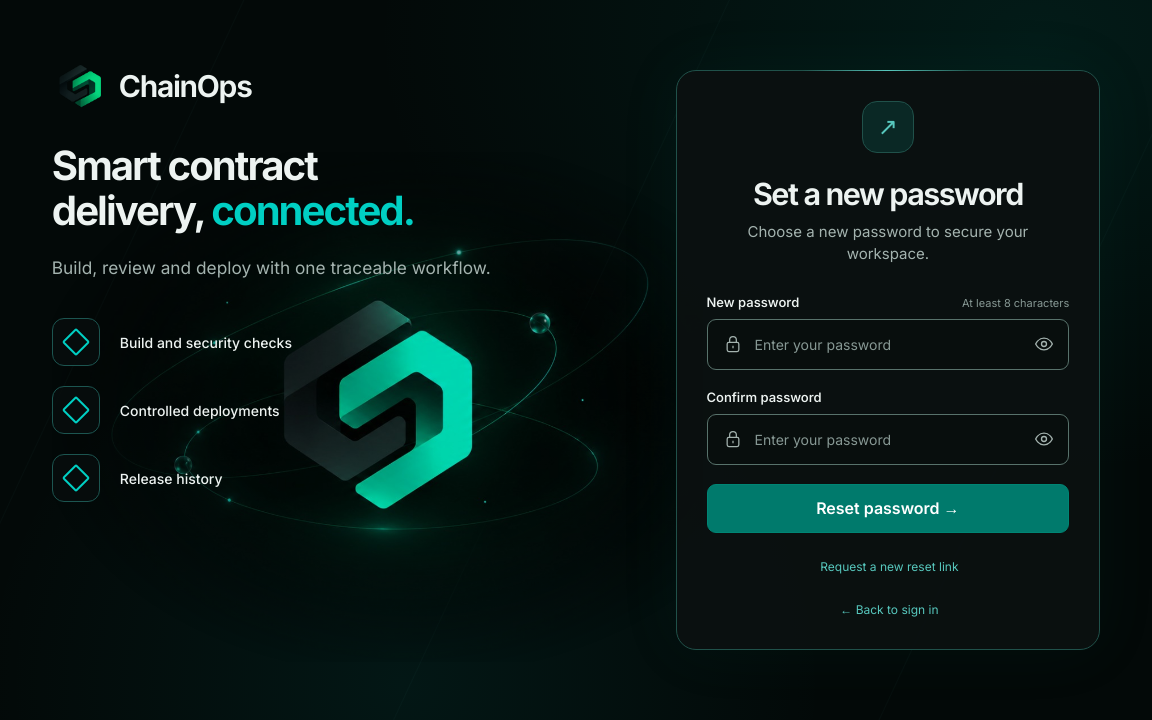
validates password length and confirmation before submitting the token
The width and height of the screenshot is (1152, 720).
Type "1234567" into the password field labelled "New password".
click(888, 344); type("1234567")  # box [706,319,1069,370]
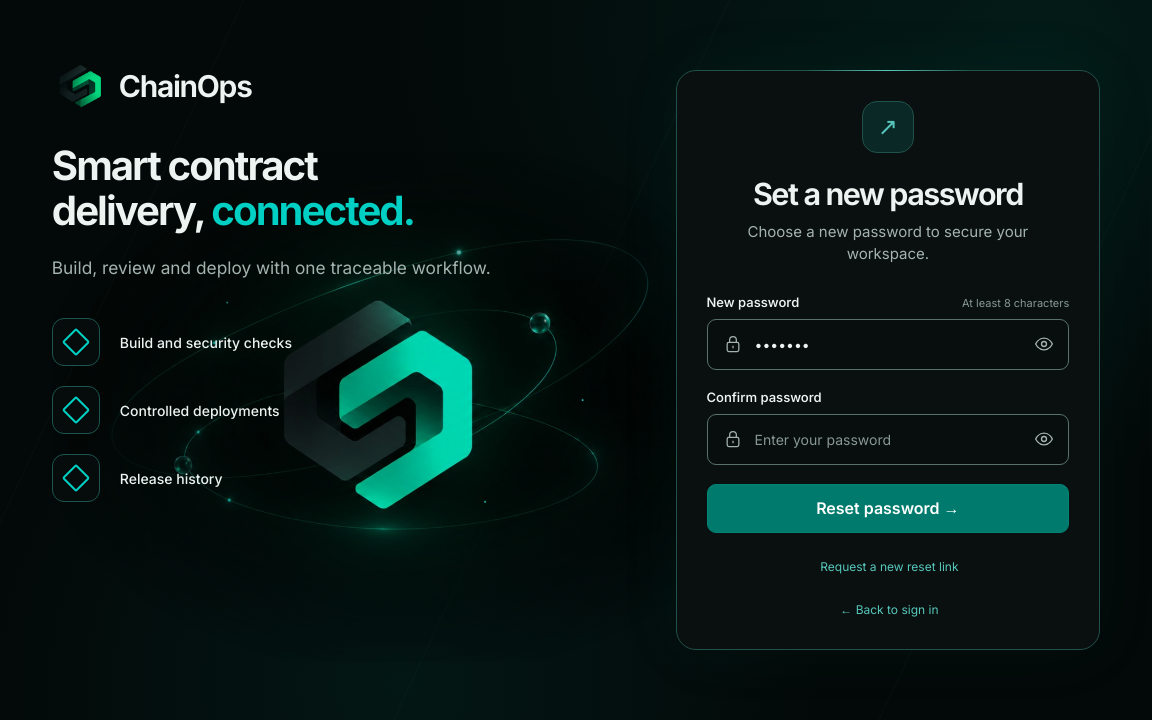
Type "different" into the password field labelled "Confirm password".
click(888, 439); type("different")  # box [706,414,1069,465]
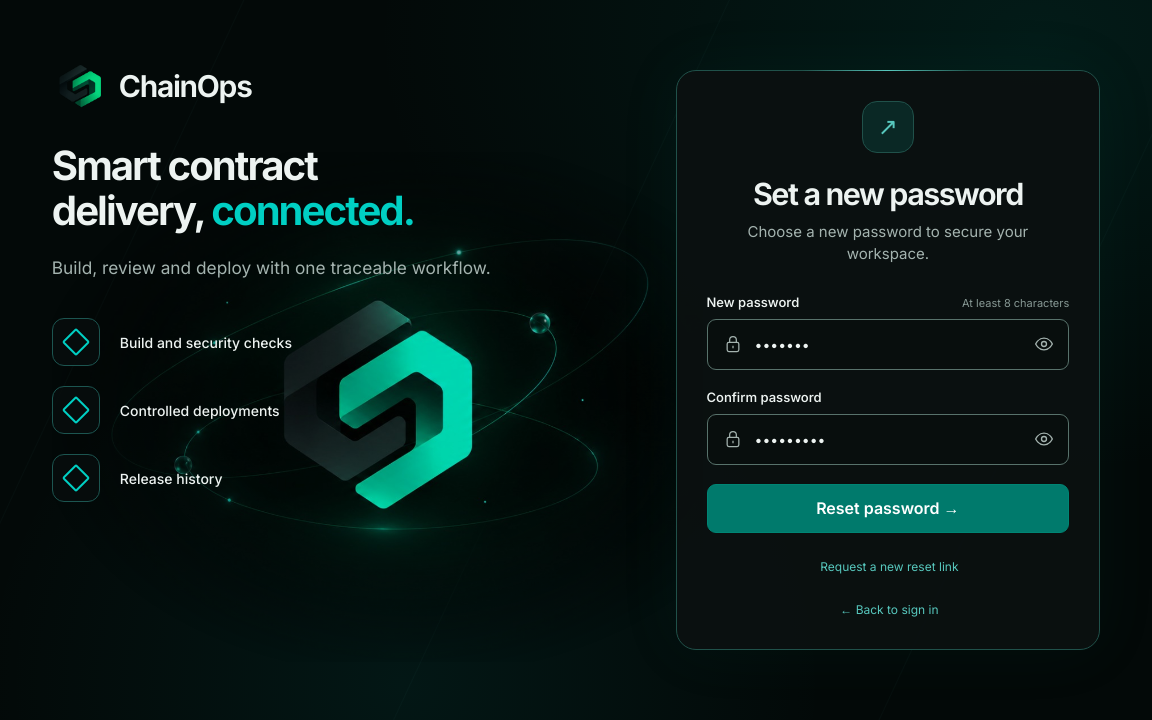
Click the button "Reset password →".
click(888, 508)  # box [706,484,1069,533]
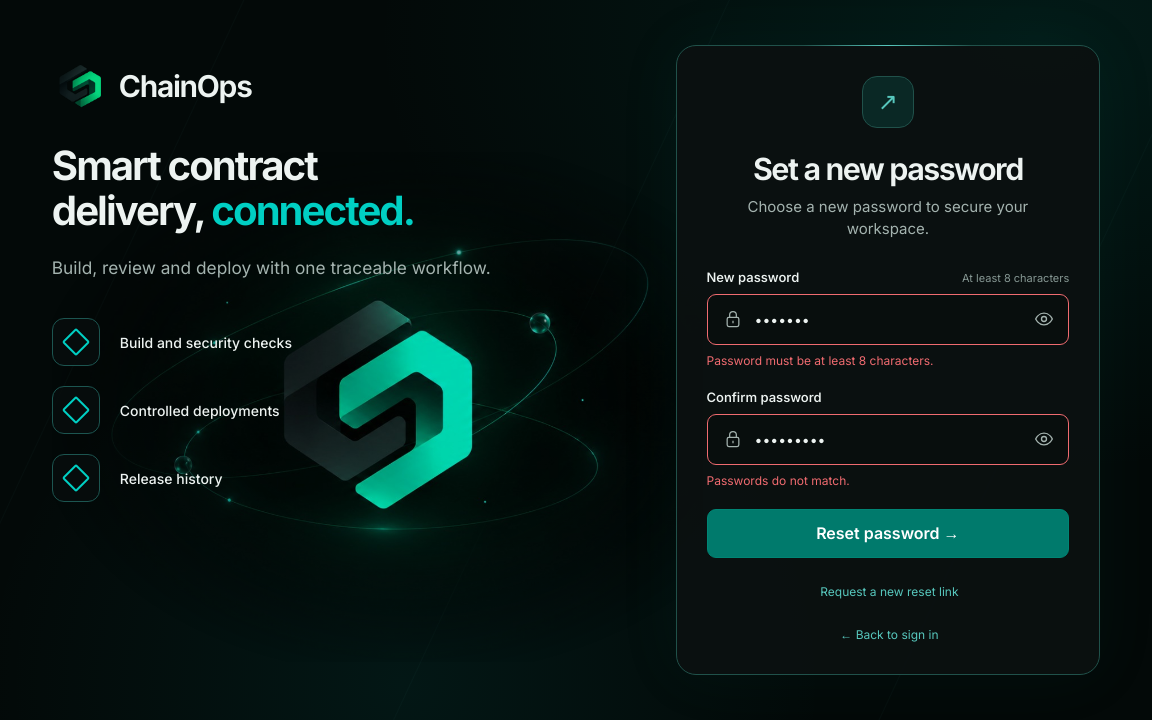
Expected: the text "Password must be at least 8 characters." is shown, [706,353,934,368]
Expected: the text "Passwords do not match." is shown, [706,473,850,488]
Type "12345678" into the password field labelled "New password".
click(888, 319); type("12345678")  # box [706,294,1069,345]
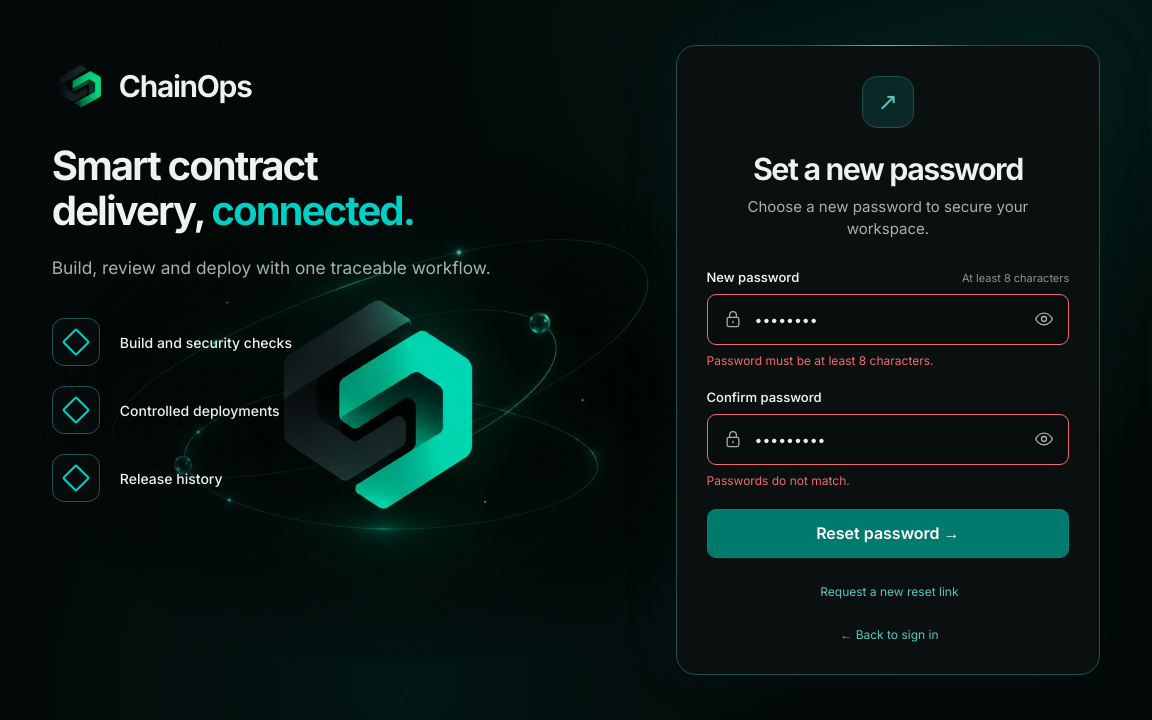
Type "12345678" into the password field labelled "Confirm password".
click(888, 439); type("12345678")  # box [706,414,1069,465]
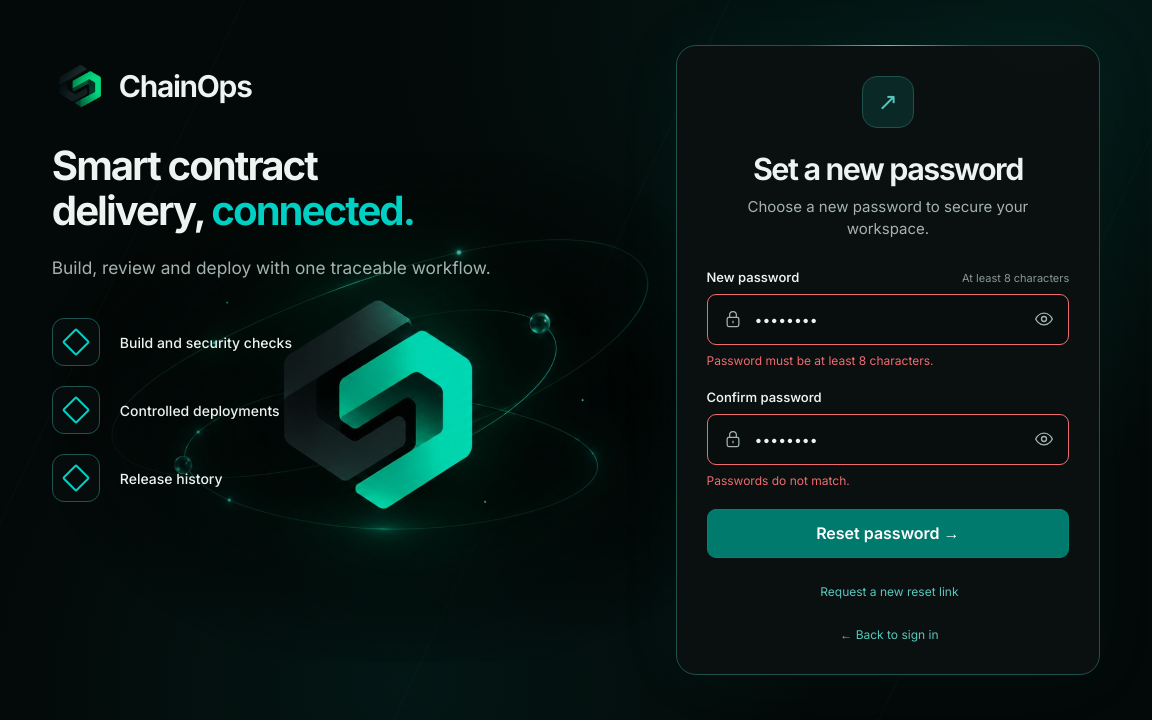
Click the button "Reset password →".
click(888, 533)  # box [706,509,1069,558]
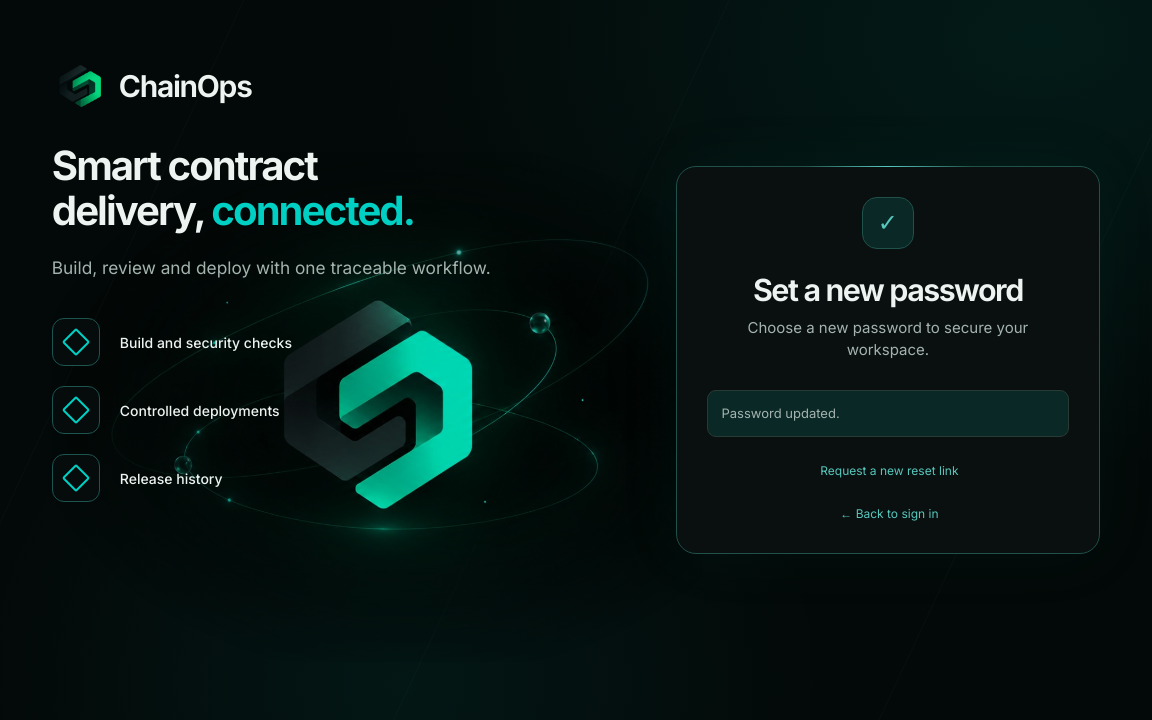
Expected: the text "Password updated." is shown, [706,390,1069,437]
